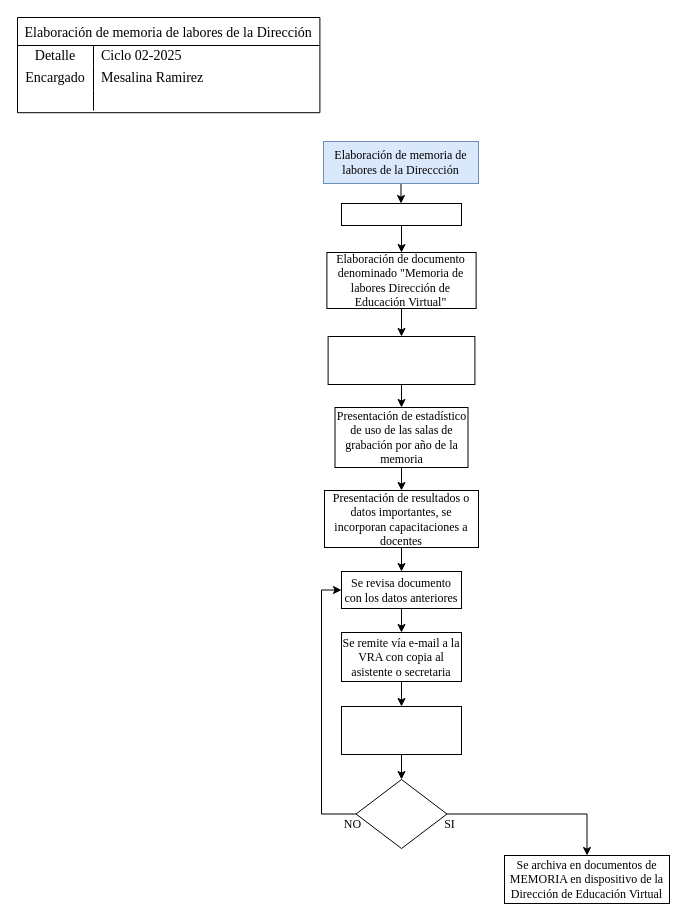
Some shapes in this 687 by 921 pixel diagram are drawn without their labels. The shapes that lost their labels are listed below. From the top down, each one's box as (x1, y1, x2, y2) in pixels, then its label:
(340, 202, 462, 226): Petición por la VRA
(327, 336, 475, 384): Registro de datos de número de alumnos virtuales Pregrado y Maestría
(340, 706, 462, 754): Se espera el envío de recepción con visto bueno de la información
(355, 778, 447, 848): ¿Visto bueno?
